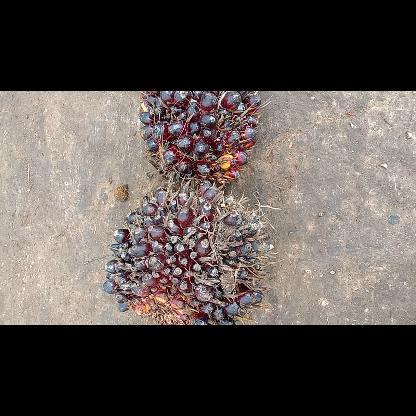TBS mentah: (108, 185, 274, 323), (139, 92, 263, 192)
